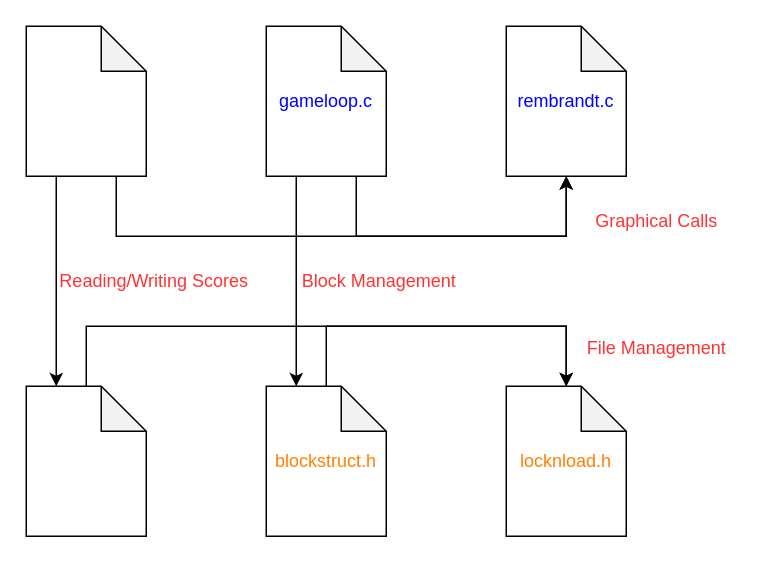
Image size: 773x563. Some labels were removed from this diagram. Each missing label, with the box of its shape:
main.c: (25, 25, 146, 176)
scorestruct.h: (25, 385, 146, 536)
